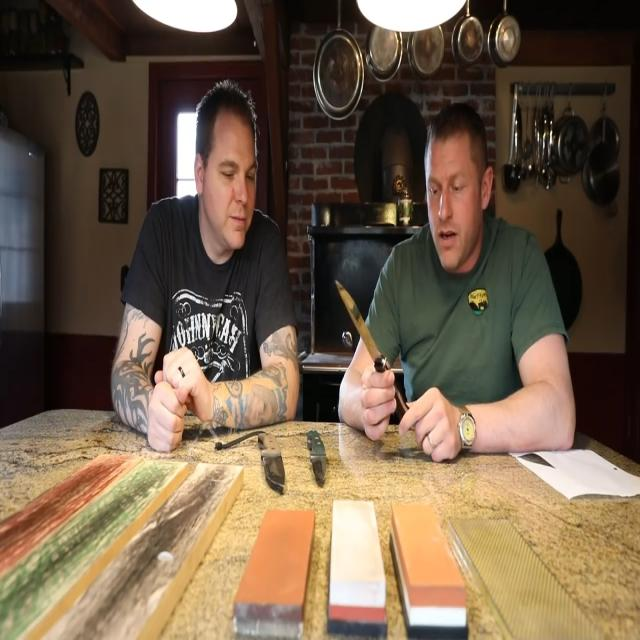knife: (336, 277, 386, 375), (255, 427, 290, 505), (302, 421, 333, 499)
